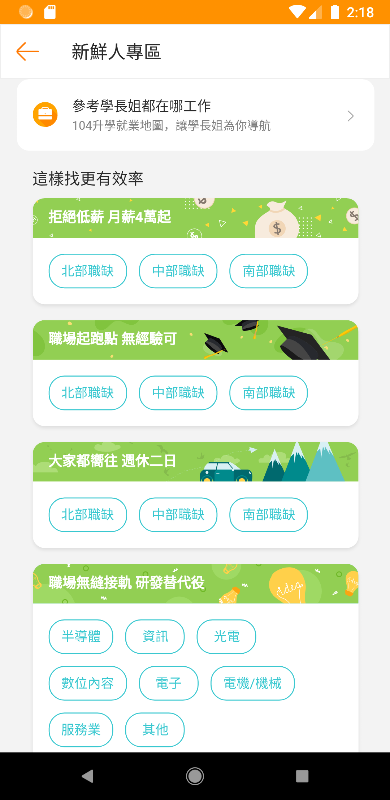button: (137, 369, 224, 418), (230, 244, 311, 294), (137, 494, 224, 540), (138, 246, 224, 292), (230, 494, 314, 541), (44, 369, 129, 414), (45, 249, 129, 294), (228, 371, 310, 416), (43, 664, 129, 705), (210, 664, 298, 704), (48, 494, 129, 536), (46, 613, 114, 657), (123, 612, 188, 657), (44, 710, 114, 749), (135, 664, 202, 704), (194, 617, 258, 658), (124, 709, 188, 748), (11, 33, 42, 67), (335, 104, 357, 135)
